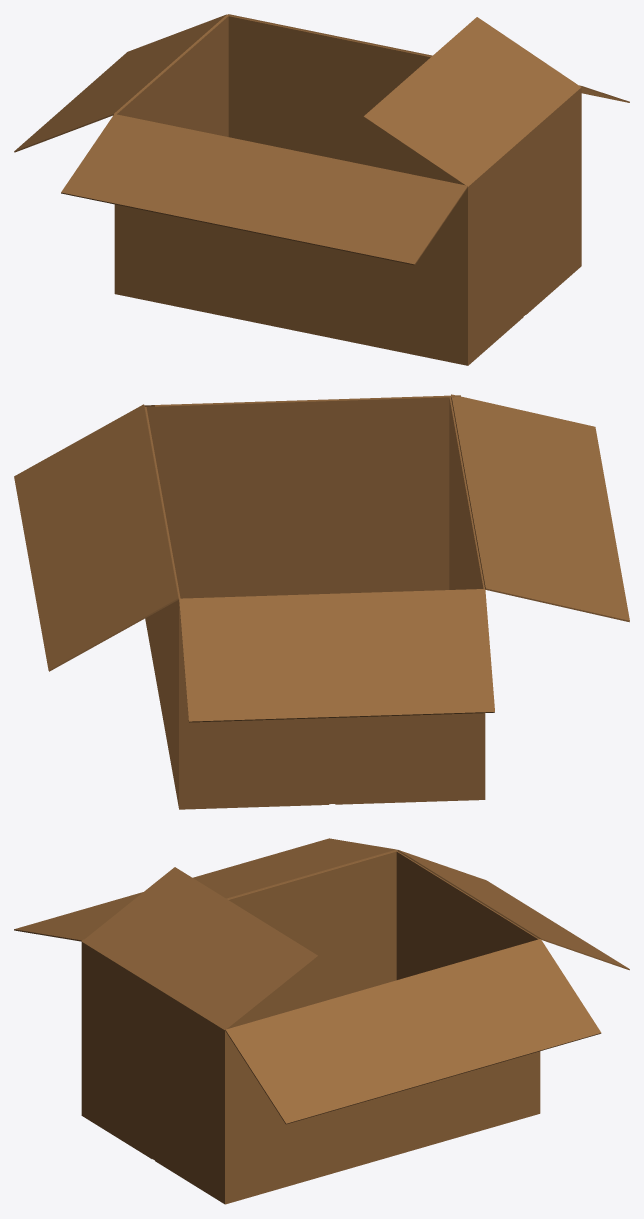
3 renders of one model, top to bottom at view 1: azimuth 30°, elevation 25°; view 2: azimuth 150°, elevation 25°; view 3: azimuth 270°, elevation 25°, orthographic. The views are drawn at different scales.
Visible parts, largest first — view 1: Model; view 2: Model; view 3: Model.
Boxes of the visible parts, left/top/right/bottom form: Model: left=14, top=14, right=629, bottom=365; Model: left=14, top=394, right=629, bottom=809; Model: left=14, top=838, right=629, bottom=1204.
Size of the model in its own units: 1.47 by 0.587 by 1.48.
